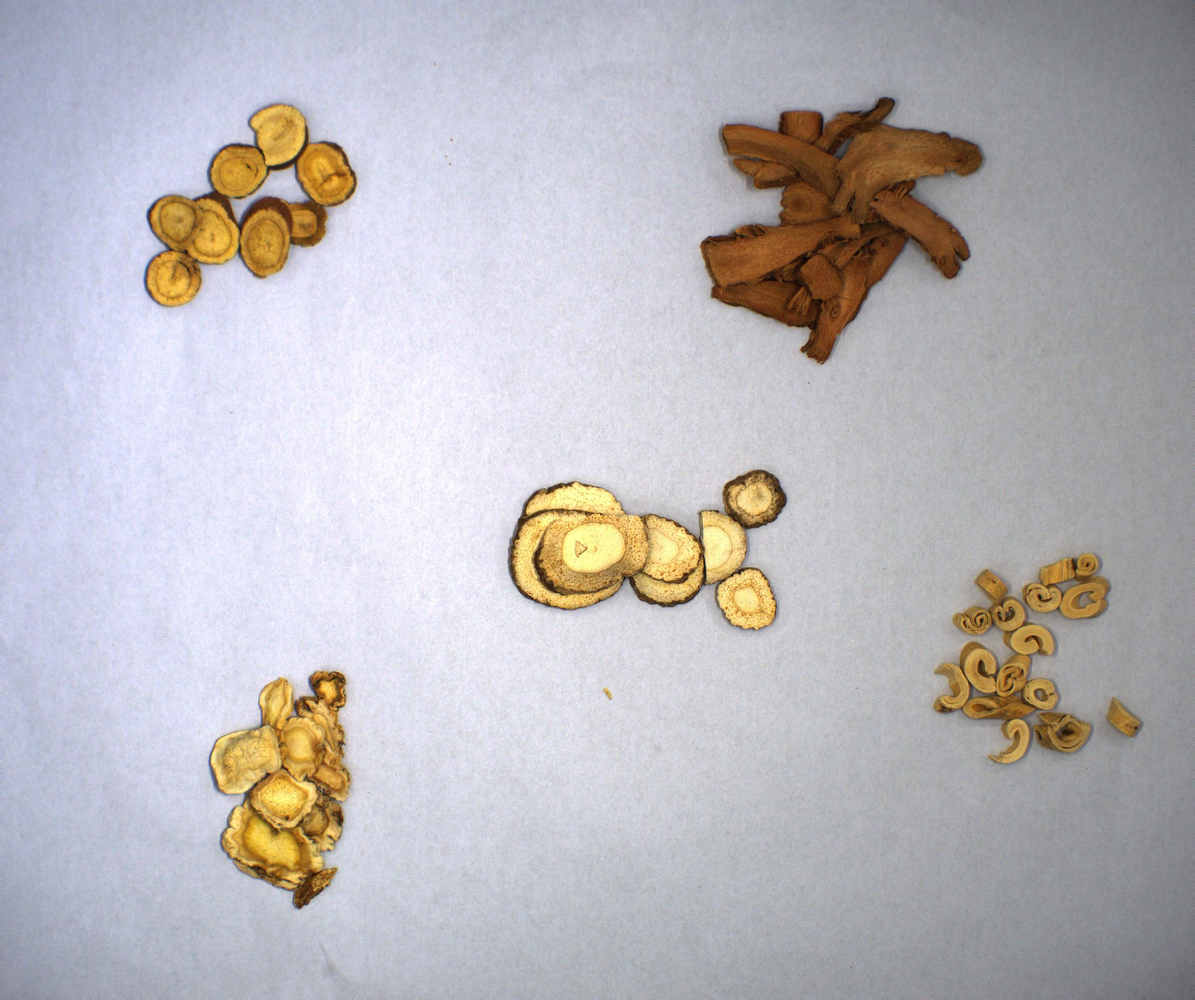baixianpi: (920, 547, 1151, 771)
baizhi: (498, 463, 795, 647)
gancaopian: (132, 98, 365, 313)
gaoliangjiang: (695, 98, 990, 370)
jiegeng: (204, 665, 359, 917)
